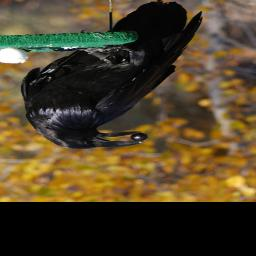Crow: (19, 0, 202, 149)
